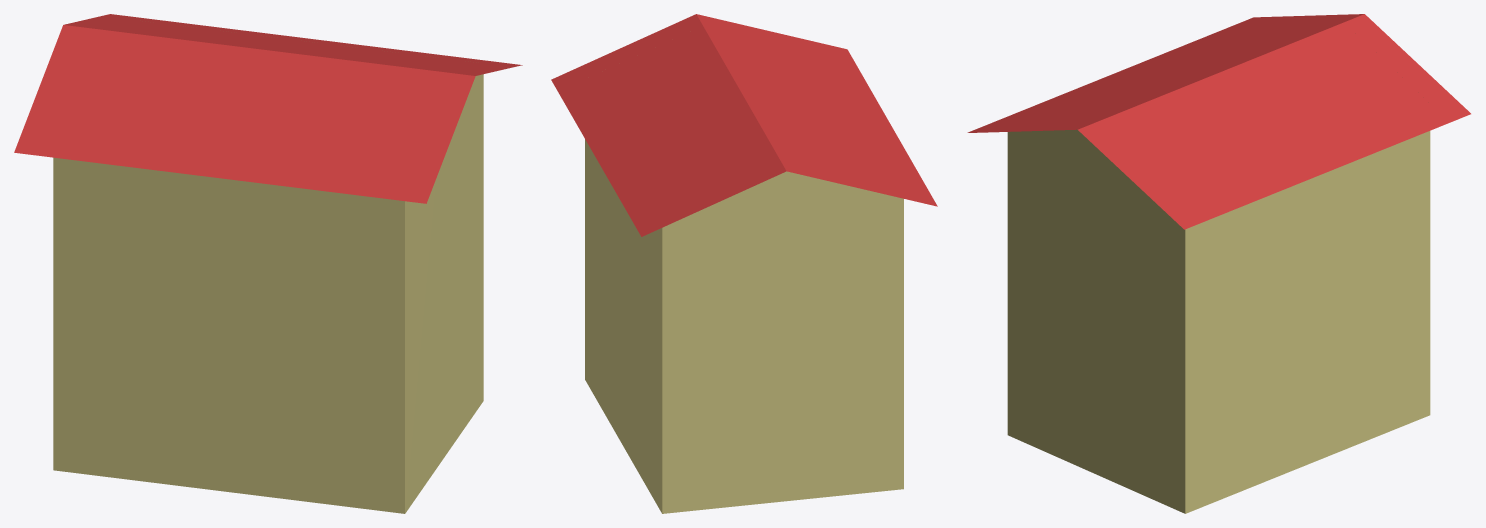
3 renders of one model, left to right at view 1: azimuth 30°, elevation 25°; view 2: azimuth 150°, elevation 25°; view 3: azimuth 270°, elevation 25°, orthographic. The views are drawn at different scales.
Size of the model in its own units: 8.62 by 8.67 by 6.7.
